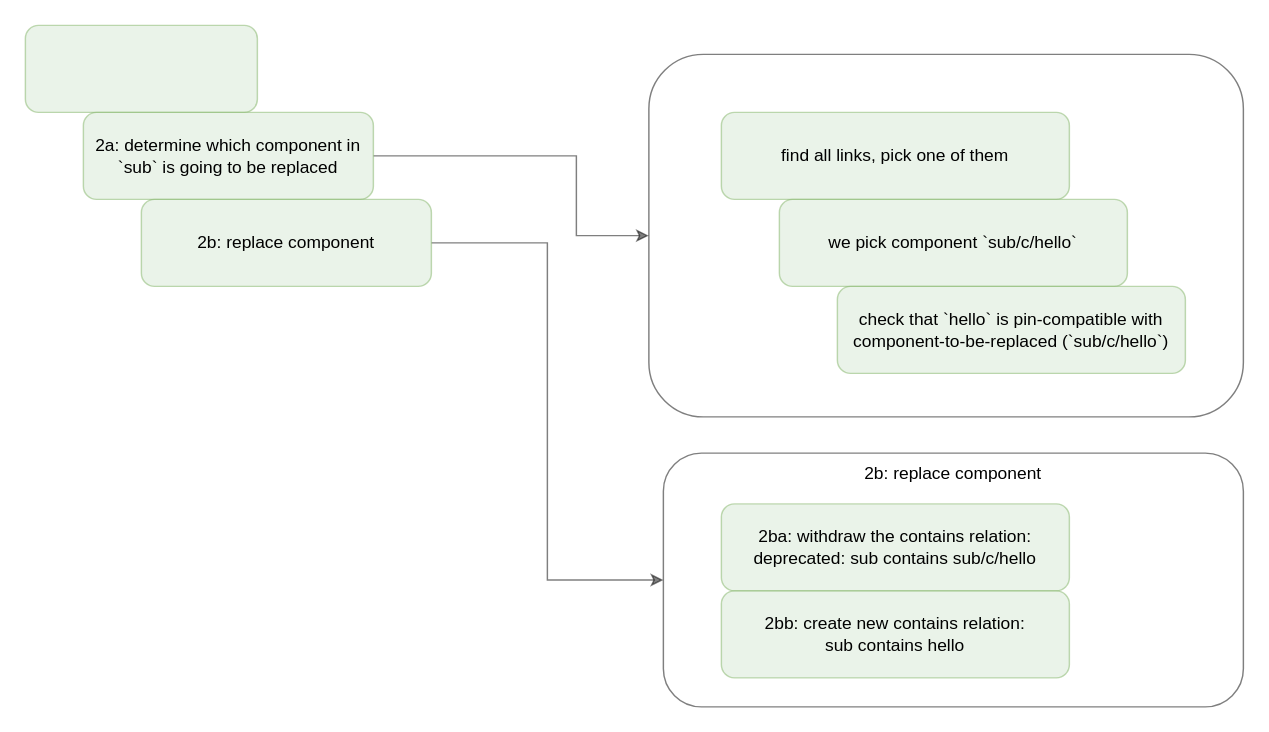
Some shapes in this 1269 by 732 pixel diagram are drawn without their labels. The shapes that lost their labels are listed below. From the top down, each one's box as (x1, y1, x2, y2) in pixels, then its label:
(24, 24, 257, 112): Step 2: merge `hello` into `sub`
(647, 53, 1243, 417): 2a: determine which component in `app` is going to be replaced
